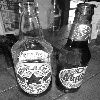beer: (55, 1, 92, 100)
